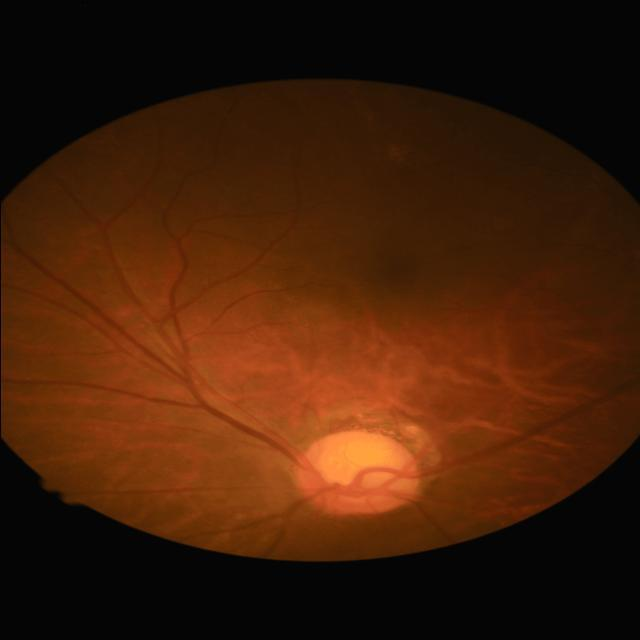cup: (312, 442, 402, 500)
disk: (292, 429, 418, 518)
